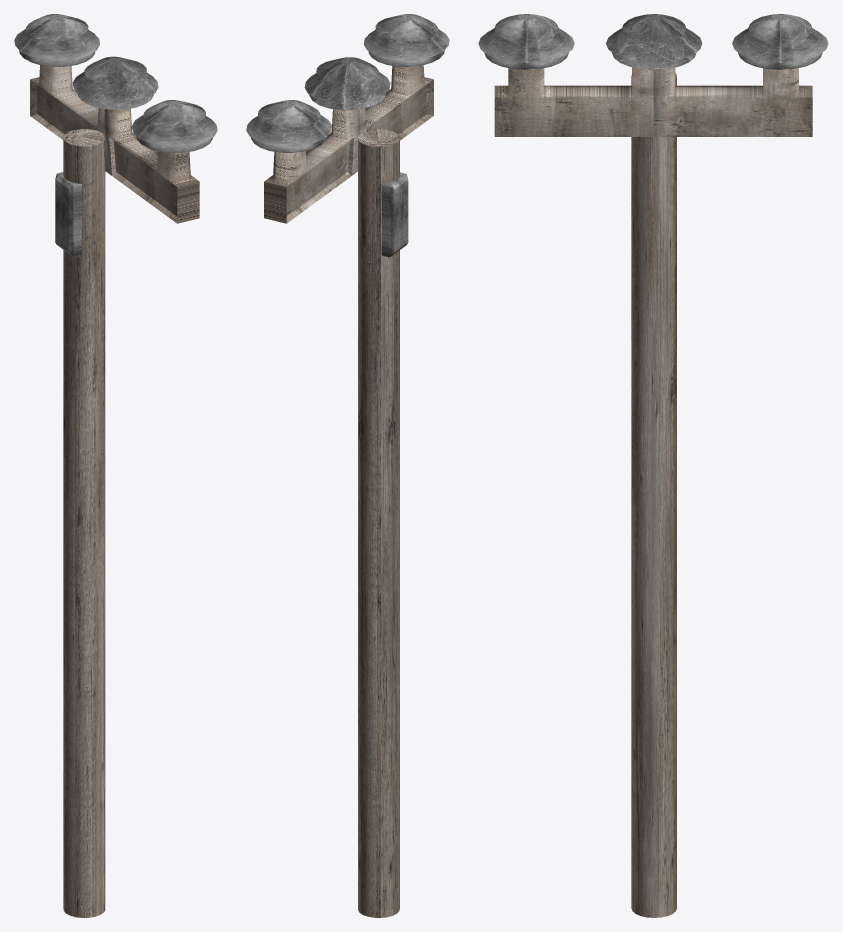
File: POLE.fbx
3 views of the same model, side by side, from view 1: azimuth 30°, elevation 25°; view 2: azimuth 150°, elevation 25°; view 3: azimuth 270°, elevation 25° (orthographic). The views are drawn at different scales.
Visible parts, largest first — view 1: pCylinder1, pCube1, pCylinder3, pCylinder4, pCylinder2, pCube2; view 2: pCylinder1, pCube1, pCylinder3, pCylinder2, pCylinder4, pCube2; view 3: pCylinder1, pCube1, pCylinder2, pCylinder4, pCylinder3.
Boxes of the visible parts, box(x1,y1,x2,y2) form: pCylinder1: box(63, 129, 105, 917); pCube1: box(30, 65, 199, 223); pCylinder3: box(72, 56, 158, 109); pCylinder4: box(132, 100, 217, 152); pCylinder2: box(14, 14, 99, 66); pCube2: box(55, 172, 81, 256); pCylinder1: box(358, 129, 399, 917); pCube1: box(264, 65, 433, 223); pCylinder3: box(304, 57, 390, 110); pCylinder2: box(246, 100, 331, 152); pCylinder4: box(364, 14, 449, 66); pCube2: box(381, 172, 408, 257); pCylinder1: box(631, 72, 676, 917); pCube1: box(494, 67, 812, 136); pCylinder2: box(732, 14, 828, 69); pCylinder4: box(478, 14, 574, 69); pCylinder3: box(606, 14, 702, 69).
Bounding box in the file's own units: 4.94 × 43.94 × 15.37.
2 materials, 2 textured.
